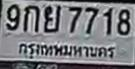1: (103, 7, 112, 34)
7: (85, 6, 98, 33), (68, 6, 81, 32)
8: (116, 8, 129, 34)
9: (5, 3, 19, 30)
A01: (23, 4, 39, 31)
A34: (43, 4, 60, 32)
BKK: (16, 40, 116, 62)
